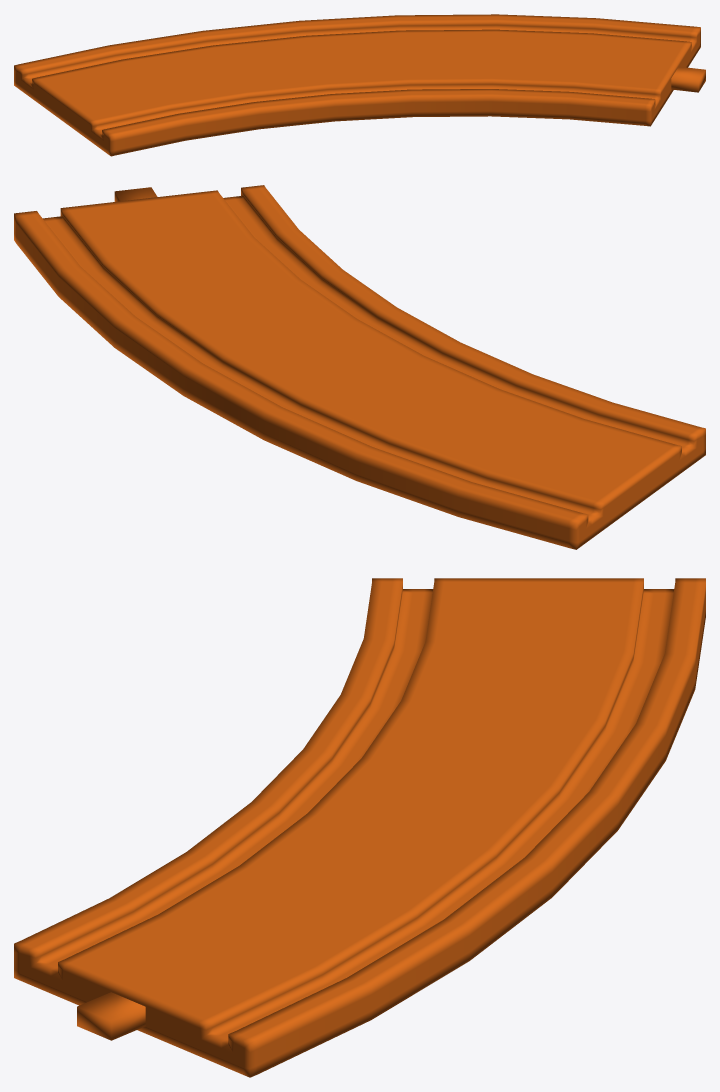
Rendered from train_rail_curve_right_01.FBX.
The picture shows the model from 3 angles, top to bottom: view 1: azimuth 30°, elevation 25°; view 2: azimuth 150°, elevation 25°; view 3: azimuth 270°, elevation 25°; orthographic projection. The views are drawn at different scales.
Visible parts, largest first — view 1: train_rail_curve_right_01; view 2: train_rail_curve_right_01; view 3: train_rail_curve_right_01.
Part boxes in pixels (x1,y1,x2,y2): train_rail_curve_right_01: [14, 14, 705, 156]; train_rail_curve_right_01: [14, 185, 705, 549]; train_rail_curve_right_01: [14, 578, 705, 1077].
Size of the model in its own units: 1534 by 52.97 by 965.
